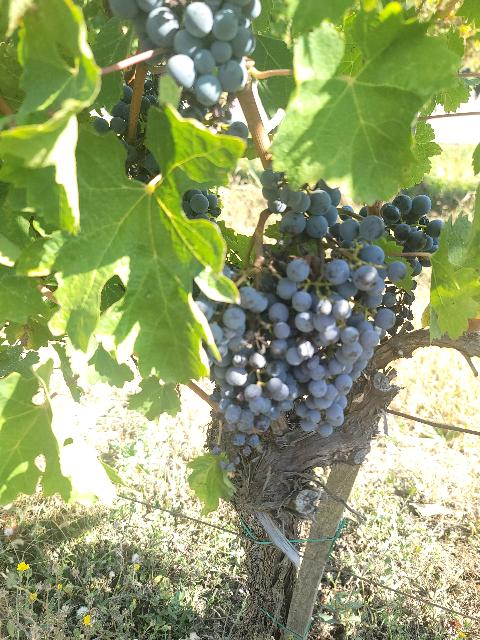grapes: (274, 251, 395, 429), (198, 286, 276, 446), (320, 194, 444, 252)
